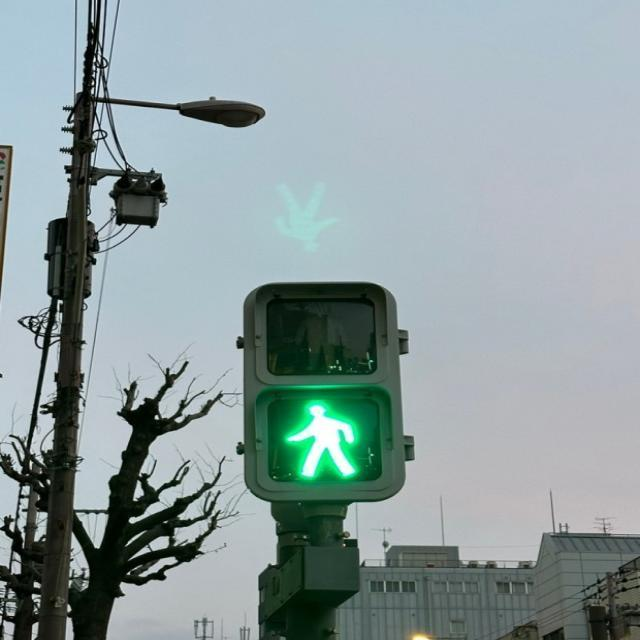green_light: (271, 404, 381, 487)
